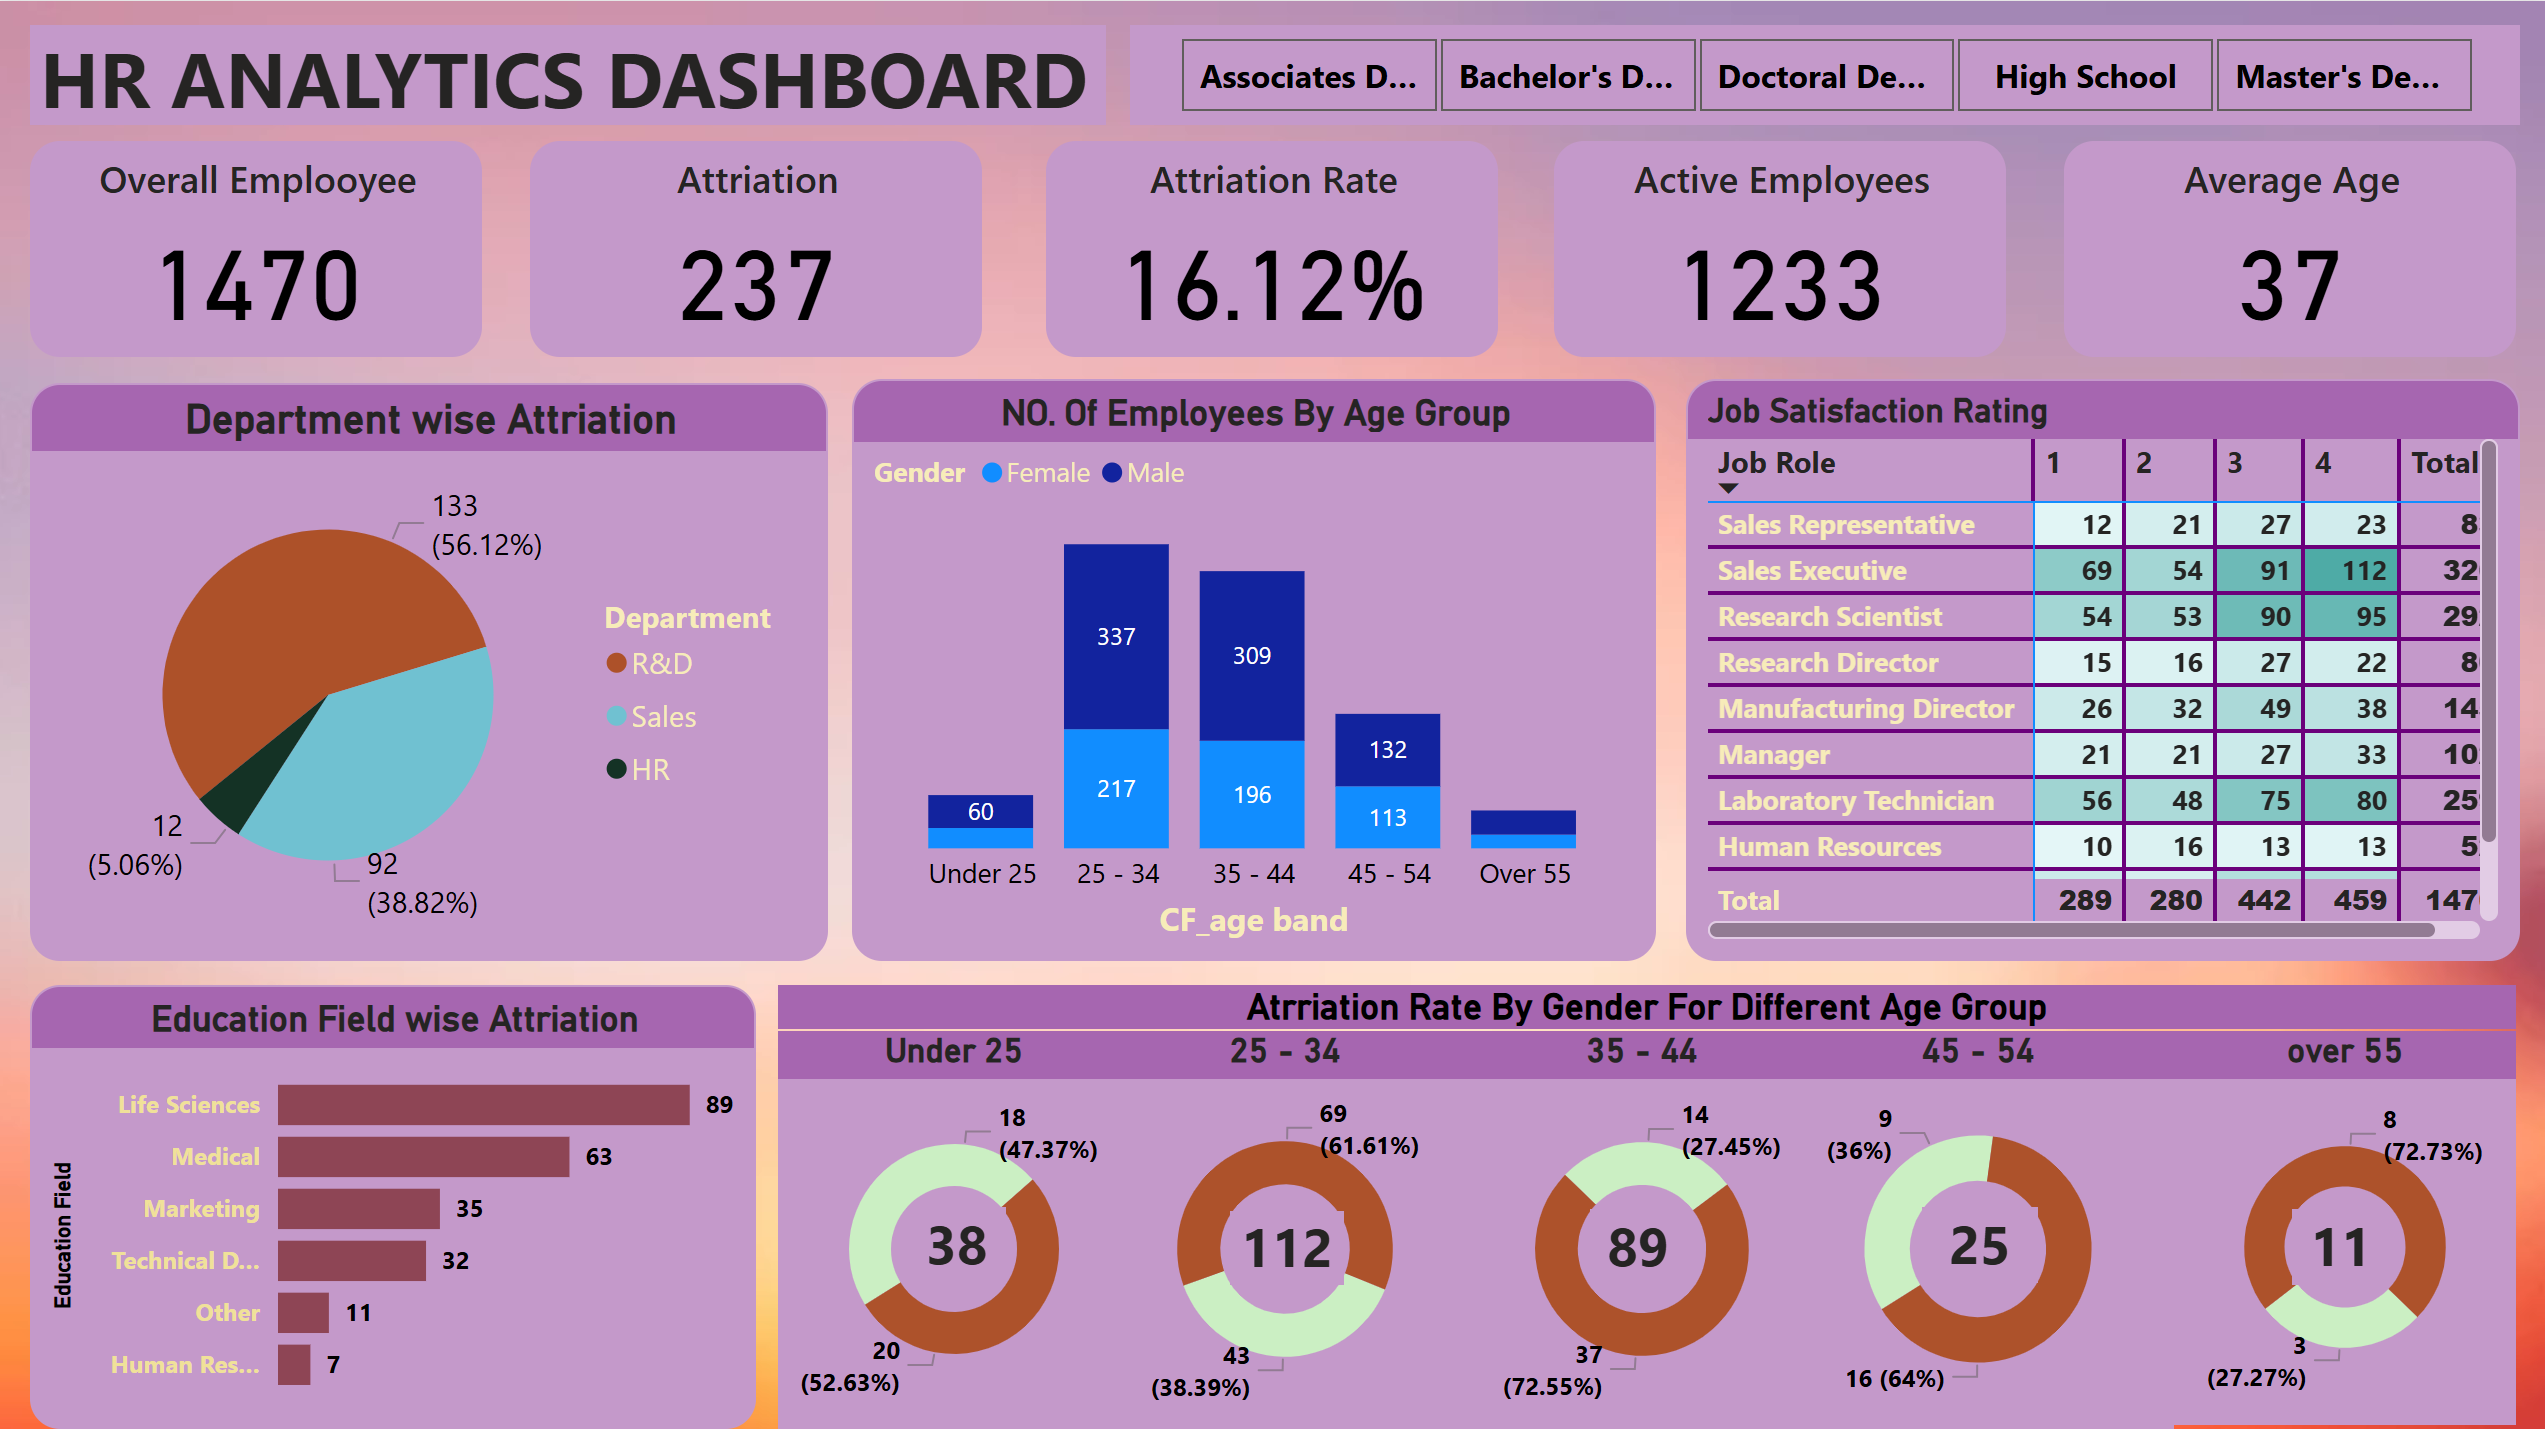

The page's visual inventory and layout, read from the dashboard file:
{"tool":"powerbi","page":{"name":"Page 1","canvas":[1280,720],"ordinal":0},"visuals":[{"type":"card","title":"Overall Emplooyee ","fields":{"Values":["Sum(Sheet1.Employee Count)"]},"box":[18.9,70.3,225.7,108.1],"z":0},{"type":"card","title":"Attriation","fields":{"Values":["Sum(Sheet1.Attriation count)"]},"box":[268.9,70.3,225.7,108.1],"z":1000},{"type":"card","title":"Attriation Rate ","fields":{"Values":["Sheet1.Attriation Rate"]},"box":[527,70.3,225.7,108.1],"z":2000},{"type":"card","title":"Active Employees ","fields":{"Values":["Sheet1.Active Employees"]},"box":[781.1,70.3,225.7,108.1],"z":3000},{"type":"card","title":"Average Age","fields":{"Values":["Avg(Sheet1.Age)"]},"box":[1036.5,70.3,225.7,108.1],"z":4000},{"type":"pieChart","title":"Department wise Attriation ","fields":{"Category":["Sheet1.Department"],"Y":["Sum(Sheet1.Attriation count)"]},"box":[18.9,190.5,398.6,289.2],"z":5000},{"type":"columnChart","title":"NO. Of Employees By Age Group","fields":{"Y":["Sum(Sheet1.Employee Count)"],"Series":["Sheet1.Gender"],"Category":["Sheet1.CF_age band"]},"box":[429.7,189.2,402.7,290.5],"z":6000},{"type":"pivotTable","title":"Job Satisfaction Rating","fields":{"Rows":["Sheet1.Job Role"],"Columns":["Sheet1.Job Satisfaction"],"Values":["Sum(Sheet1.Employee Count)"]},"box":[847.3,189.2,416.2,290.5],"z":7000},{"type":"barChart","title":"Education Field wise Attriation","fields":{"Category":["Sheet1.Education Field"],"Y":["Sum(Sheet1.Attriation count)"]},"box":[18.9,491.9,363.5,221.6],"z":8000},{"type":"donutChart","title":"Under 25","fields":{"Series":["Sheet1.CF_age band"],"Y":["Sum(Sheet1.Attriation count)"],"Category":["Sheet1.Gender"]},"box":[393.2,514.9,175.7,198.6],"z":9000},{"type":"textbox","title":"Atrriation Rate By Gender For Different Age Group","box":[393.2,491.9,868.9,21.6],"z":10000},{"type":"donutChart","title":"25 - 34","fields":{"Series":["Sheet1.CF_age band"],"Y":["Sum(Sheet1.Attriation count)"],"Category":["Sheet1.Gender"]},"box":[556.8,514.9,179.7,198.6],"z":10001},{"type":"donutChart","title":"35 - 44","fields":{"Series":["Sheet1.CF_age band"],"Y":["Sum(Sheet1.Attriation count)"],"Category":["Sheet1.Gender"]},"box":[736.5,514.9,177,198.6],"z":10002},{"type":"donutChart","title":"45 - 54","fields":{"Series":["Sheet1.CF_age band"],"Y":["Sum(Sheet1.Attriation count)"],"Category":["Sheet1.Gender"]},"box":[894.6,514.9,195.9,198.6],"z":10003},{"type":"donutChart","title":"over 55","fields":{"Series":["Sheet1.CF_age band"],"Y":["Sum(Sheet1.Attriation count)"],"Category":["Sheet1.Gender"]},"box":[1090.5,514.9,171.6,197.3],"z":10004},{"type":"card","fields":{"Values":["Sum(Sheet1.Attriation count)"]},"box":[458.1,602.7,48.6,37.8],"z":10005},{"type":"card","fields":{"Values":["Sum(Sheet1.Attriation count)"]},"box":[618.9,605.4,56.8,36.5],"z":10006},{"type":"card","fields":{"Values":["Sum(Sheet1.Attriation count)"]},"box":[798.6,604.1,48.6,37.8],"z":10007},{"type":"card","fields":{"Values":["Sum(Sheet1.Attriation count)"]},"box":[964.9,602.7,58.1,37.8],"z":10008},{"type":"card","fields":{"Values":["Sum(Sheet1.Attriation count)"]},"box":[1150,604.1,48.6,37.8],"z":10009},{"type":"textbox","title":"HR ANALYTICS DASHBOARD","box":[18.9,12.2,537.8,50],"z":10010},{"type":"slicer","fields":{"Values":["Sheet1.Education"]},"box":[568.9,12.2,694.6,50],"z":10011}]}

Visuals, with their boxes in screenshot pixels (x1, y1, x2, y2), scaled from the page's 1280x720 canvas onto the 2545x1429 screenshot:
"Overall Emplooyee " card: bbox(38, 140, 486, 354)
"Attriation" card: bbox(535, 140, 983, 354)
"Attriation Rate " card: bbox(1048, 140, 1497, 354)
"Active Employees " card: bbox(1553, 140, 2002, 354)
"Average Age" card: bbox(2061, 140, 2510, 354)
"Department wise Attriation " pieChart: bbox(38, 378, 830, 952)
"NO. Of Employees By Age Group" columnChart: bbox(854, 376, 1655, 952)
"Job Satisfaction Rating" pivotTable: bbox(1685, 376, 2512, 952)
"Education Field wise Attriation" barChart: bbox(38, 976, 760, 1416)
"Under 25" donutChart: bbox(782, 1022, 1131, 1416)
"Atrriation Rate By Gender For Different Age Group" textbox: bbox(782, 976, 2509, 1019)
"25 - 34" donutChart: bbox(1107, 1022, 1464, 1416)
"35 - 44" donutChart: bbox(1464, 1022, 1816, 1416)
"45 - 54" donutChart: bbox(1779, 1022, 2168, 1416)
"over 55" donutChart: bbox(2168, 1022, 2509, 1414)
card - Sum(Sheet1.Attriation count): bbox(911, 1196, 1007, 1271)
card - Sum(Sheet1.Attriation count): bbox(1231, 1202, 1343, 1274)
card - Sum(Sheet1.Attriation count): bbox(1588, 1199, 1684, 1274)
card - Sum(Sheet1.Attriation count): bbox(1918, 1196, 2034, 1271)
card - Sum(Sheet1.Attriation count): bbox(2287, 1199, 2383, 1274)
"HR ANALYTICS DASHBOARD" textbox: bbox(38, 24, 1107, 123)
slicer - Sheet1.Education: bbox(1131, 24, 2512, 123)
